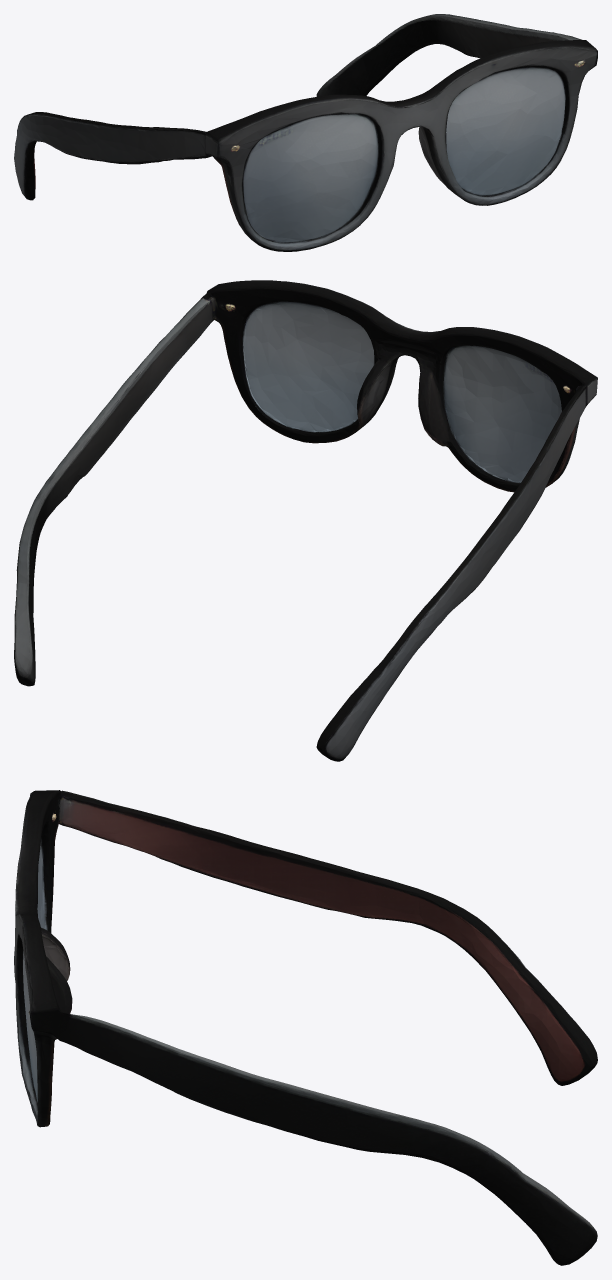
File: sunglas.glb
The picture shows the model from 3 angles, top to bottom: view 1: azimuth 30°, elevation 25°; view 2: azimuth 150°, elevation 25°; view 3: azimuth 270°, elevation 25°; orthographic projection. The views are drawn at different scales.
Visible parts, largest first — view 1: world; view 2: world; view 3: world.
Part boxes in pixels (x1=…): world: x1=14, y1=14, x2=597, y2=251; world: x1=14, y1=280, x2=597, y2=761; world: x1=14, y1=790, x2=597, y2=1265.
Size of the model in its own units: 0.9648 by 0.5585 by 0.997.
1 material, 1 textured.
